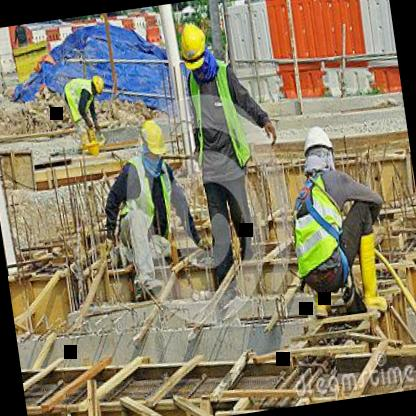helmet: (298, 121, 338, 185), (174, 16, 211, 73), (135, 116, 169, 166), (86, 72, 108, 98)
